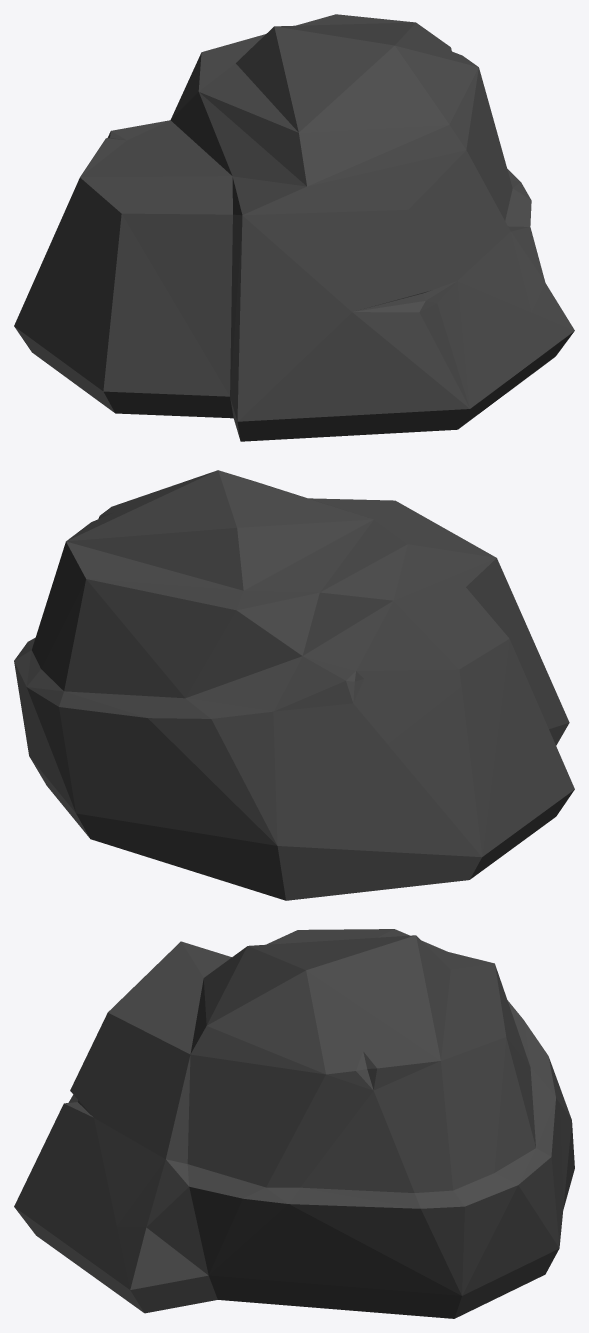
File: rock__rock8_natural_dark.glb
3 renders of one model, top to bottom at view 1: azimuth 30°, elevation 25°; view 2: azimuth 150°, elevation 25°; view 3: azimuth 270°, elevation 25°, orthographic. The views are drawn at different scales.
Parts seen in each view (by area): view 1: rock8.natural.dark; view 2: rock8.natural.dark; view 3: rock8.natural.dark.
Part boxes in pixels (bbox=[...]): rock8.natural.dark: bbox=[14, 14, 574, 441]; rock8.natural.dark: bbox=[14, 470, 574, 900]; rock8.natural.dark: bbox=[14, 929, 574, 1318].
Size of the model in its own units: 2.69 by 1.59 by 2.71.
Materials: 1 (1 with a texture image).
